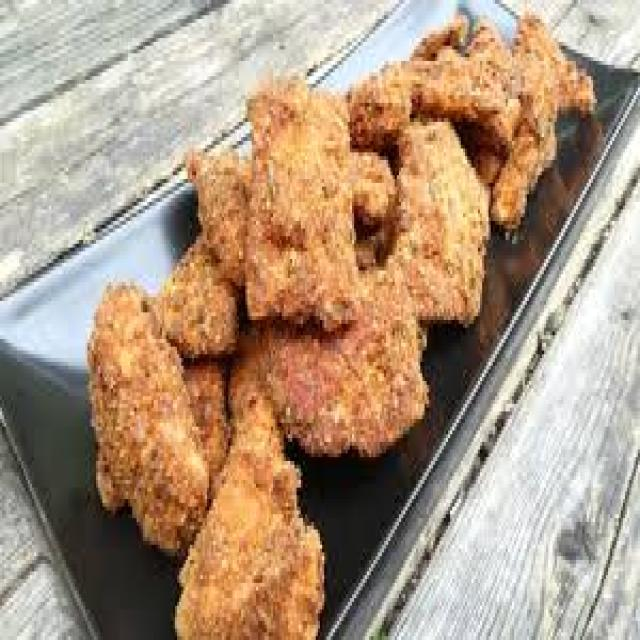Frango: (88, 11, 586, 640), (241, 248, 448, 259), (237, 228, 245, 266)
